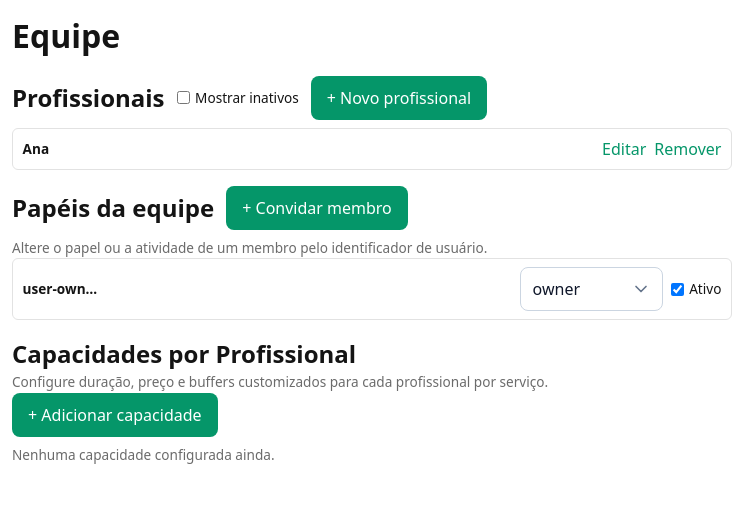
Test: EquipePage › maps a 409 conflict on professional removal to a Portuguese message
Expected: the text "Ana" is shown, [23,139,49,158]
Click the button "Remover": (688, 149) [654,137,721,161]
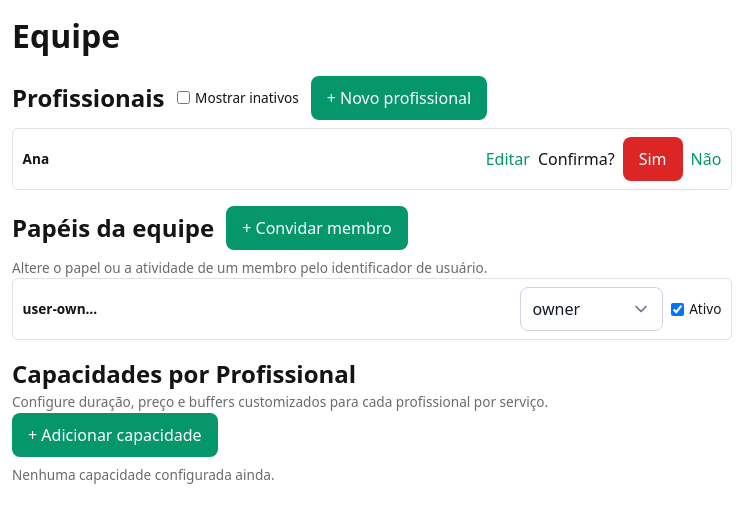
Click the button "Sim": (653, 159) [623,137,683,181]
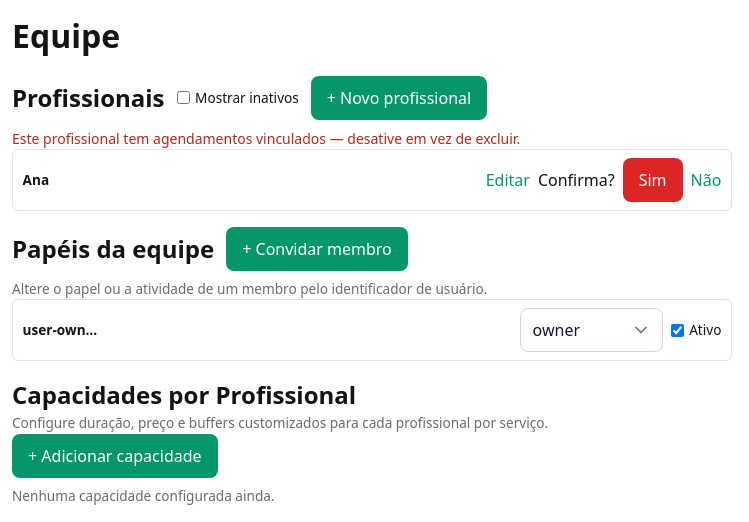
Expected: the text "Este profissional tem agendamentos vinculados — desative em vez de excluir." is shown, [12,129,520,148]
